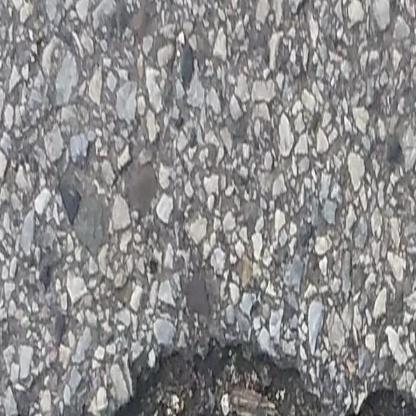Cracks: (78, 348, 416, 416)
